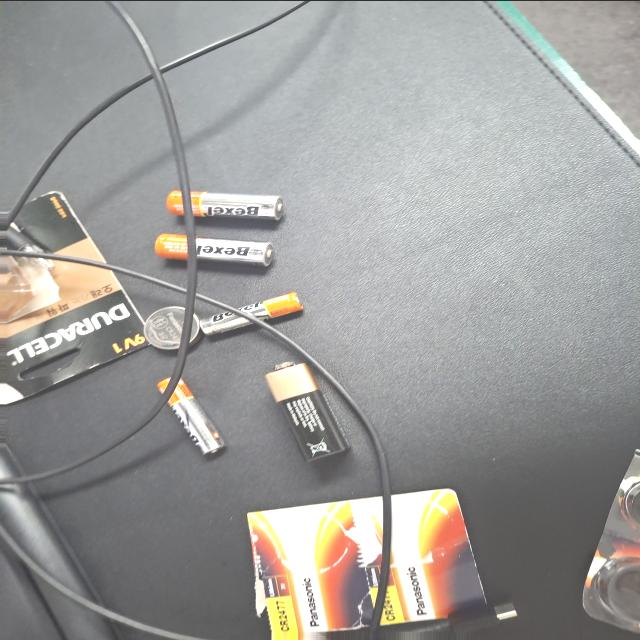9V: (480, 377, 613, 442)
AA: (310, 434, 356, 524), (252, 426, 294, 515)
AAA: (501, 469, 606, 522), (386, 416, 444, 494)
COIN: (408, 488, 466, 533)
